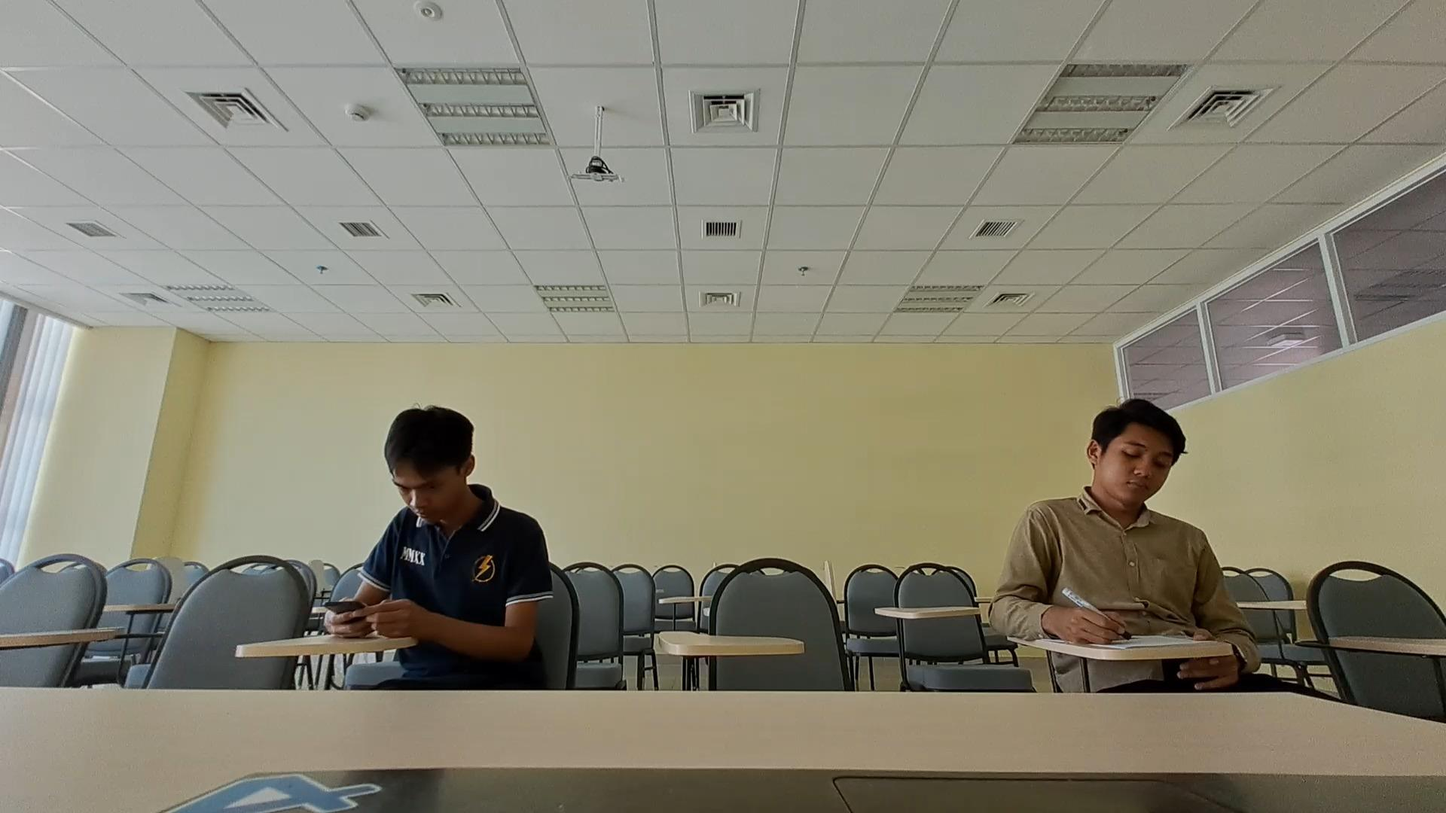phone: (305, 406, 548, 632)
study: (992, 396, 1239, 652)
